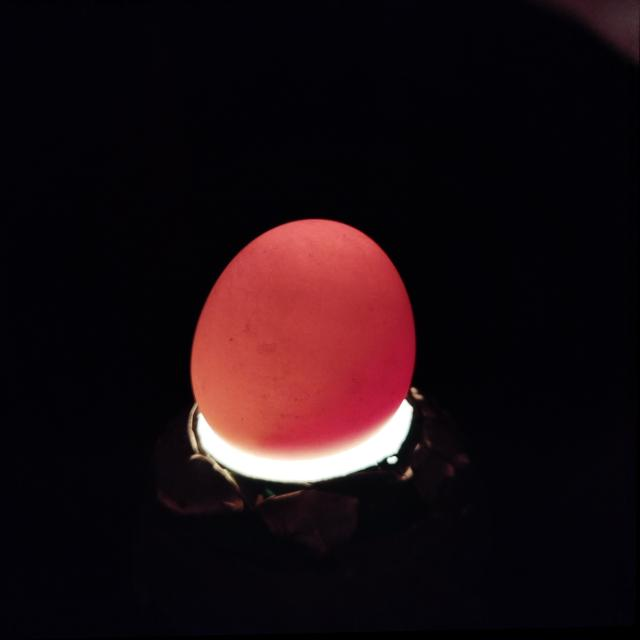Gema Quebrada: (255, 252, 416, 455)
